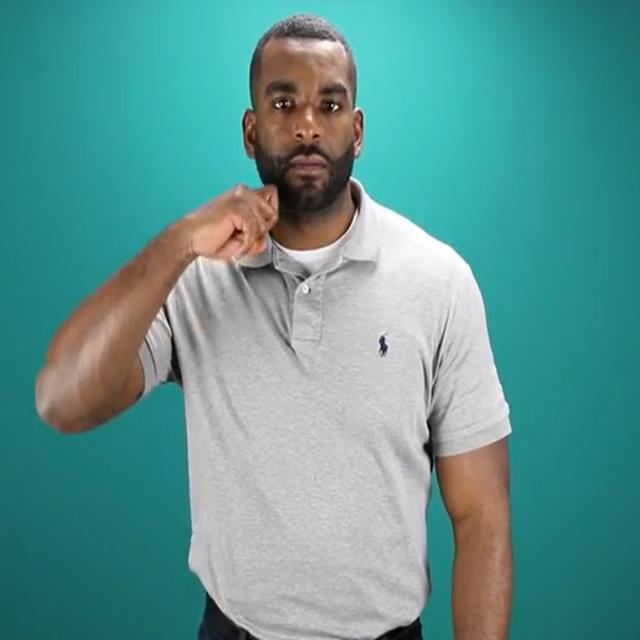apple: (192, 183, 278, 261)
